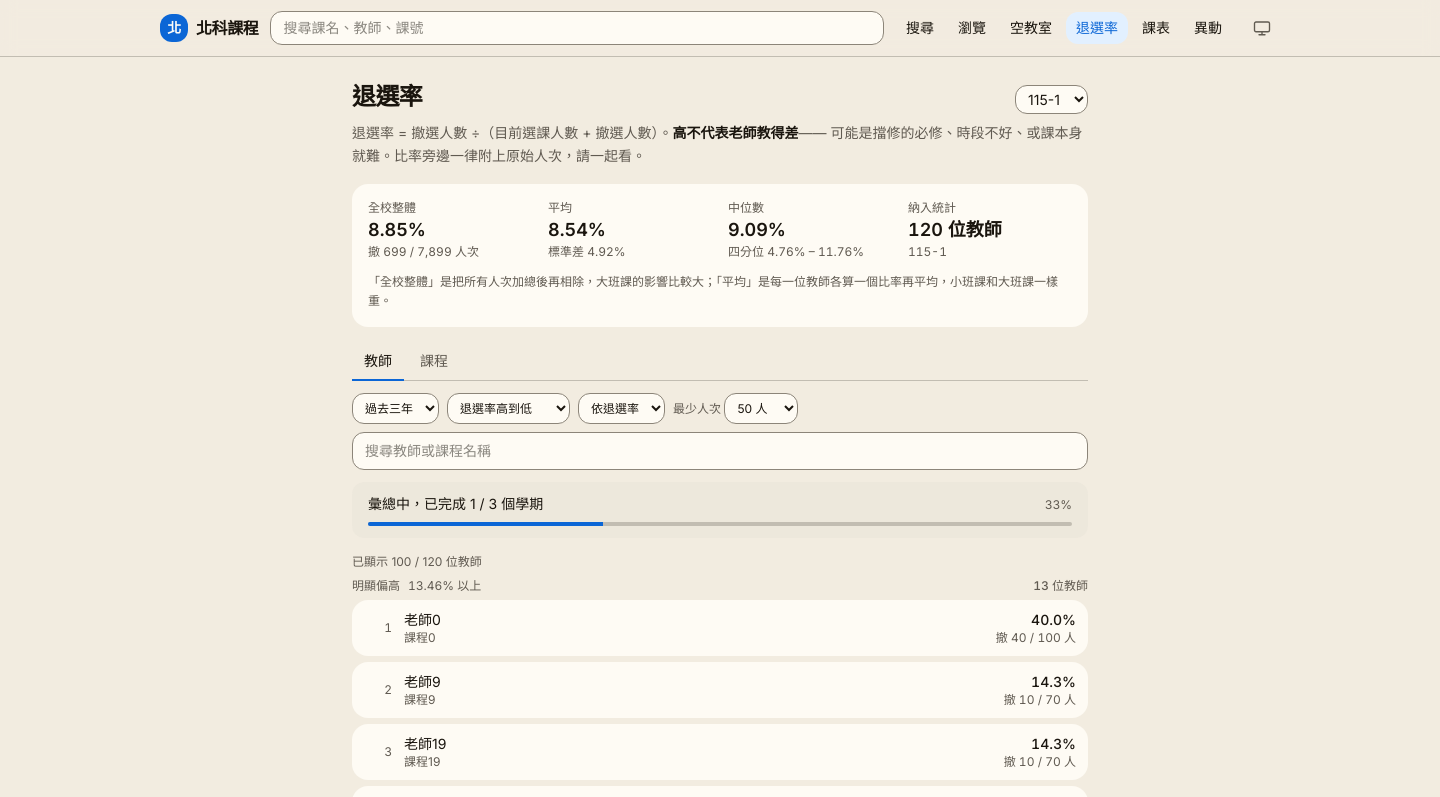
/withdrawal › 搜尋姓名,找不到時說明
Expected: the heading "退選率" is shown, top-left (352, 81), bottom-right (422, 113)
Expected: the link "1 老師0 課程0 40.0% 撤 40 / 100 人" is shown, top-left (352, 600), bottom-right (1088, 656)
Type "不存在" into the search field labelled "搜尋" at (720, 450), box top-left (352, 432), bottom-right (1088, 470)
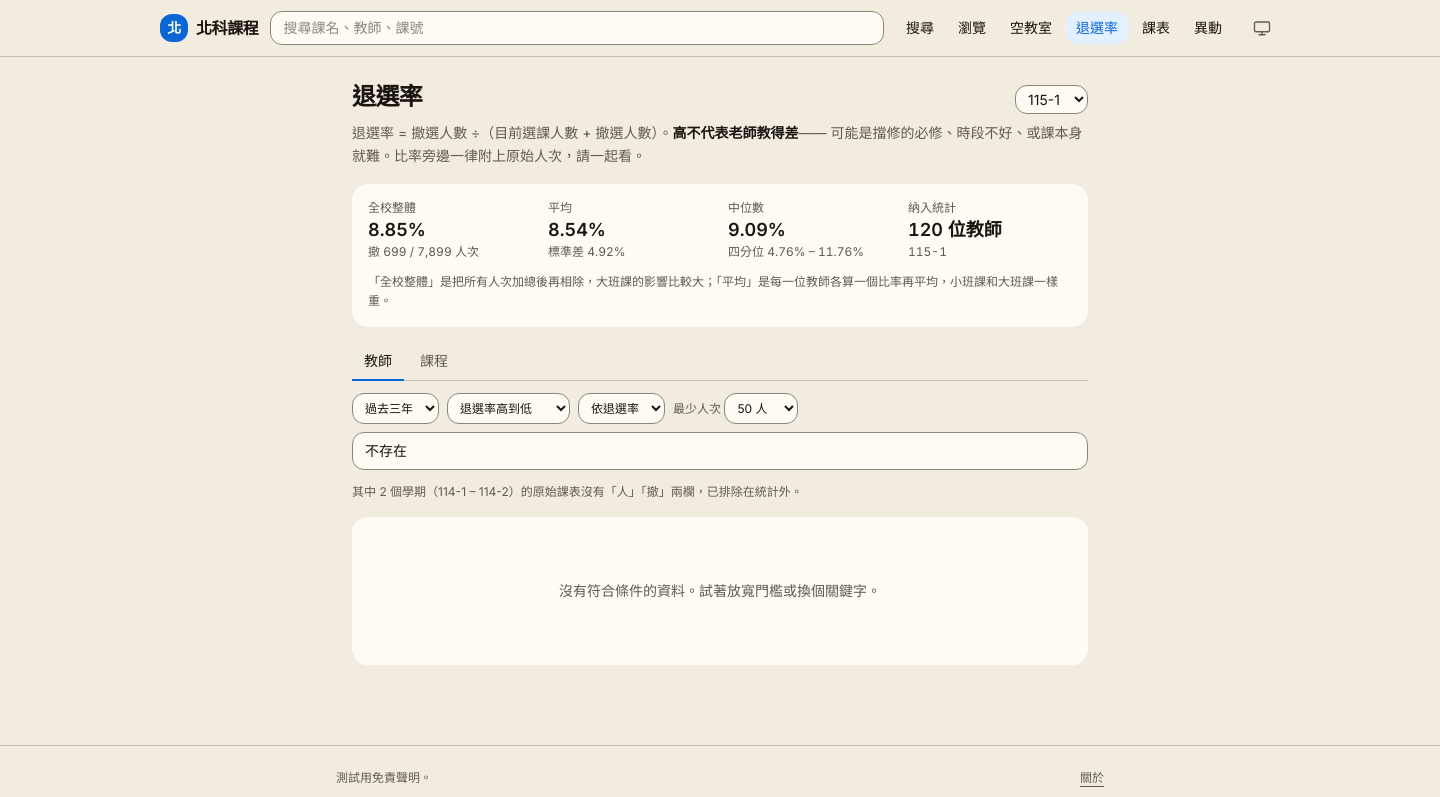
Now the text "沒有符合條件的資料。試著放寬門檻或換個關鍵字。" is shown, box top-left (352, 517), bottom-right (1088, 665)
